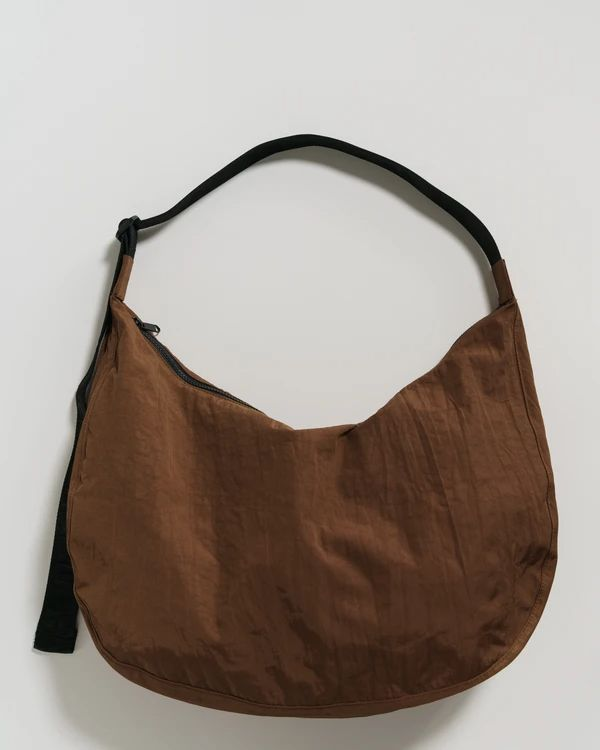nylon: (64, 253, 560, 722)
